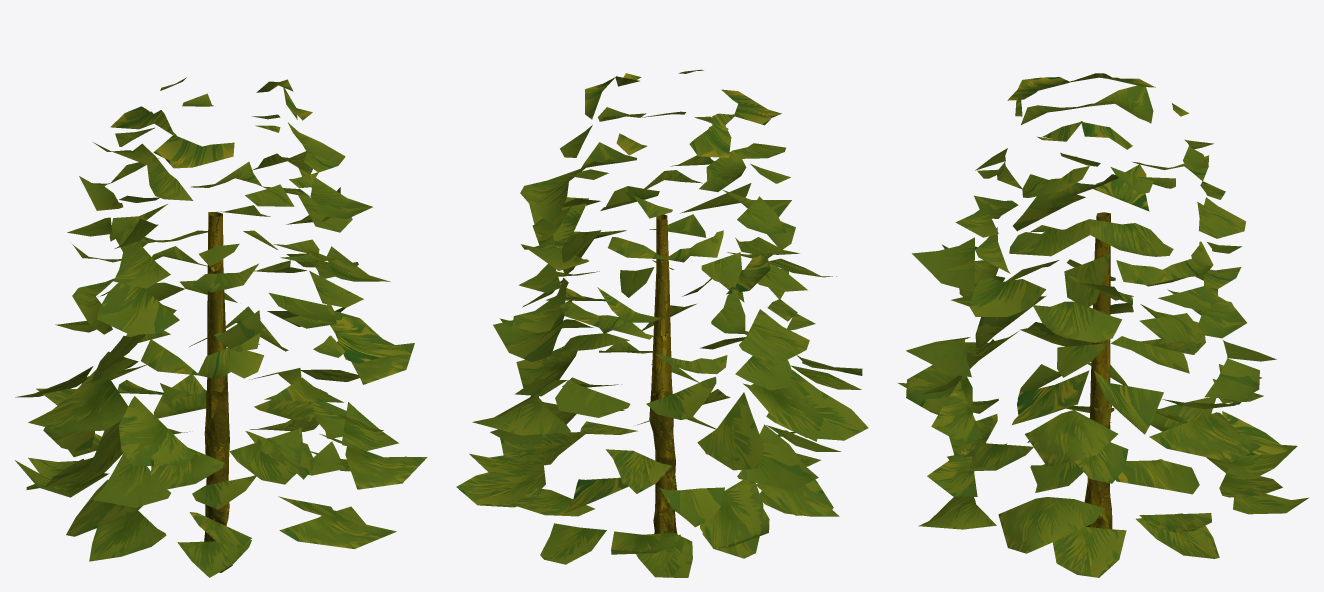
File: pine.glb
3 renders of one model, left to right at view 1: azimuth 30°, elevation 25°; view 2: azimuth 150°, elevation 25°; view 3: azimuth 270°, elevation 25°, orthographic. The views are drawn at different scales.
Visible parts, largest first — view 1: LOD0; view 2: LOD0; view 3: LOD0.
Part boxes in pixels (<box>): LOD0: <box>15,77,427,577</box>; LOD0: <box>456,69,868,577</box>; LOD0: <box>898,73,1308,577</box>.
Size of the model in its own units: 8.31 by 12.4 by 8.41.
2 materials, 2 textured.
